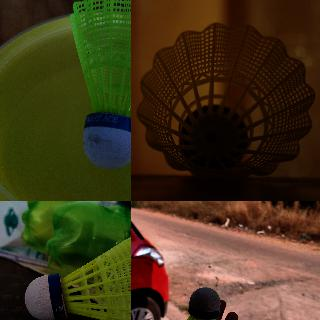shuttlecock: (136, 22, 314, 180), (69, 0, 130, 170), (24, 223, 130, 319), (159, 287, 231, 319)
